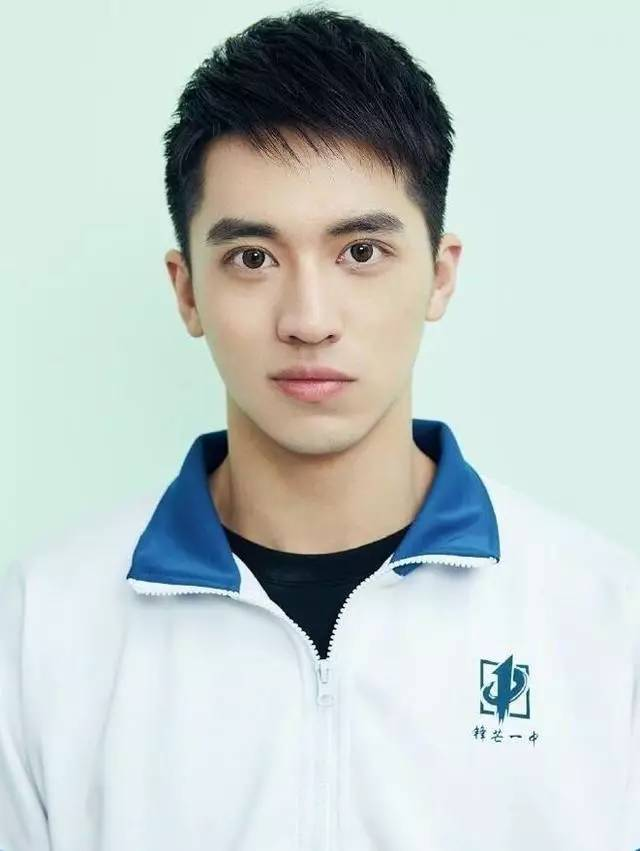unmask: (187, 127, 433, 432)
